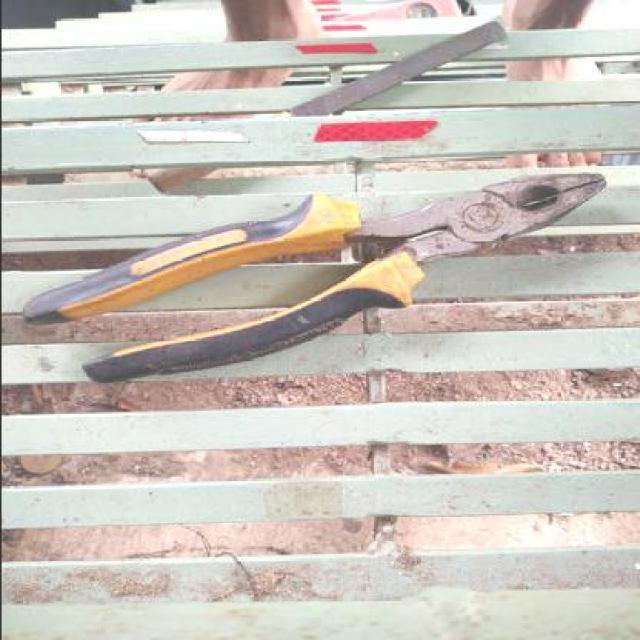pliers: (21, 162, 604, 402)
